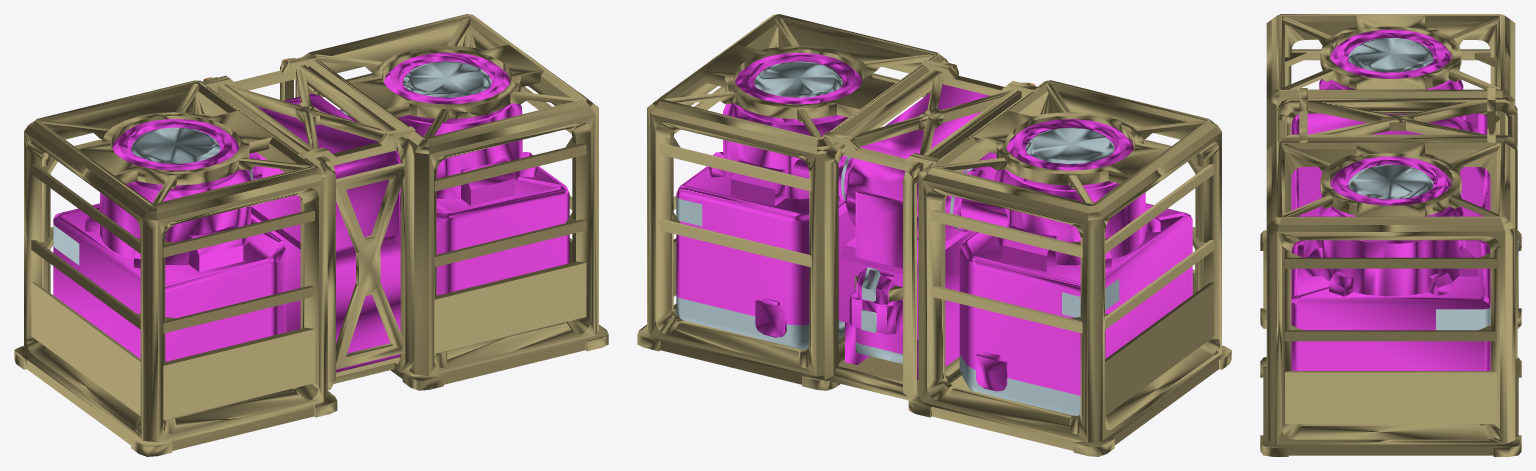
File: tank_hazardous_1_05x025x025_a.glb
3 renders of one model, left to right at view 1: azimuth 30°, elevation 25°; view 2: azimuth 150°, elevation 25°; view 3: azimuth 270°, elevation 25°, orthographic. The views are drawn at different scales.
Size of the model in its own units: 5.06 by 2.52 by 2.56.
